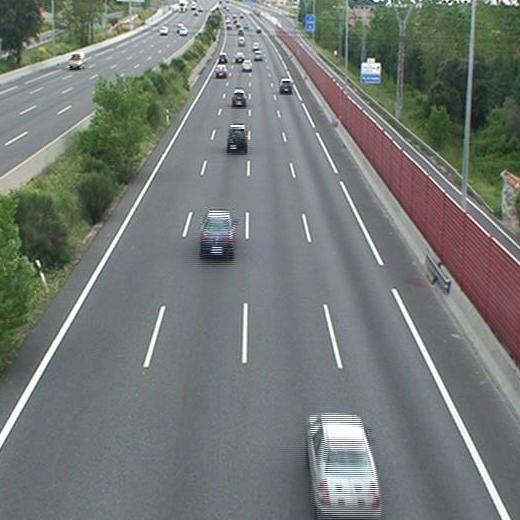car: (308, 414, 380, 514), (201, 212, 234, 254), (227, 125, 247, 151), (231, 90, 247, 105), (279, 79, 292, 93), (216, 64, 227, 76), (240, 60, 251, 69), (233, 52, 243, 61), (254, 50, 263, 59), (219, 53, 227, 61), (237, 37, 245, 44)
